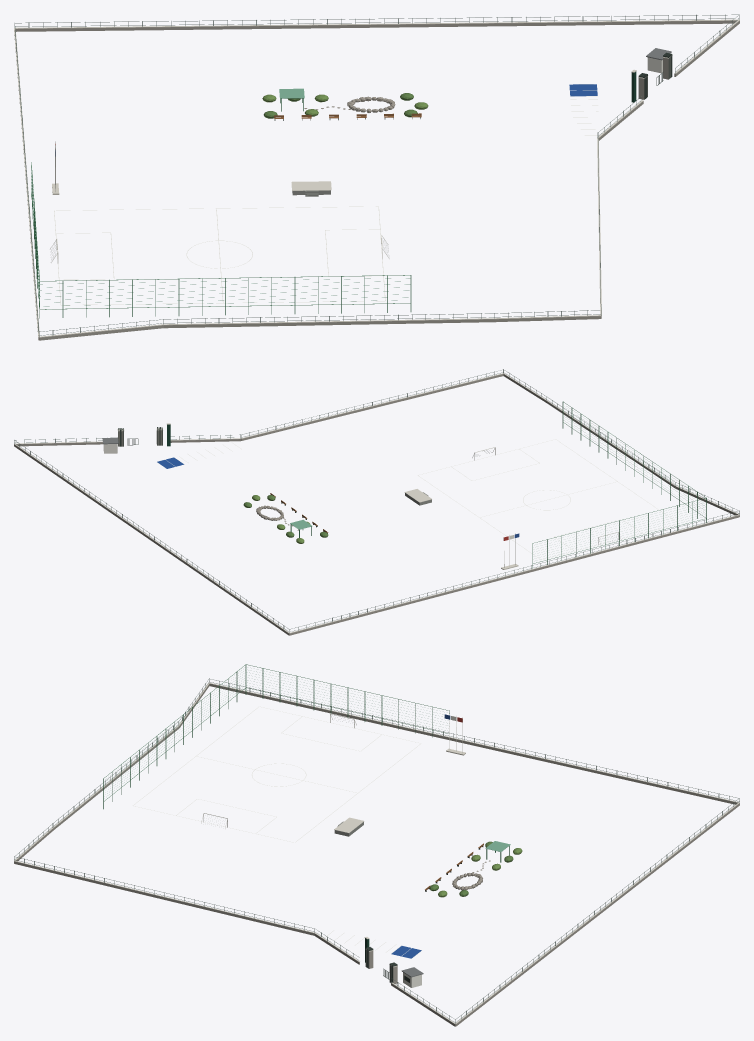
3 renders of one model, top to bottom at view 1: azimuth 30°, elevation 25°; view 2: azimuth 150°, elevation 25°; view 3: azimuth 270°, elevation 25°, orthographic. The views are drawn at different scales.
Parts seen in each view (by area): view 1: prop_boundary-fence, prop_field-fence, prop_main-gate, prop_garden-paths, prop_field-lines, prop_garden-topiary, prop_stand-podium; view 2: prop_boundary-fence, prop_field-fence, prop_main-gate, prop_field-lines, prop_garden-paths; view 3: prop_boundary-fence, prop_field-fence, prop_main-gate, prop_field-lines, prop_garden-paths.
Part boxes in pixels (x1,y1,x2,y2): prop_boundary-fence: (14,14,739,340); prop_field-fence: (31,162,411,318); prop_main-gate: (631,48,672,102); prop_garden-paths: (274,88,421,120); prop_field-lines: (54,206,385,305); prop_garden-topiary: (262,93,428,118); prop_stand-podium: (291,181,331,196); prop_boundary-fence: (14,369,739,635); prop_field-fence: (532,401,706,567); prop_main-gate: (102,423,170,453); prop_field-lines: (418,439,679,559); prop_garden-paths: (256,493,328,537); prop_boundary-fence: (14,678,739,1026); prop_field-fence: (103,664,449,809); prop_main-gate: (364,937,423,987); prop_field-lines: (133,706,420,842); prop_garden-paths: (425,841,510,891).
Bounding box in the file's own units: 179 × 9.24 × 161.
